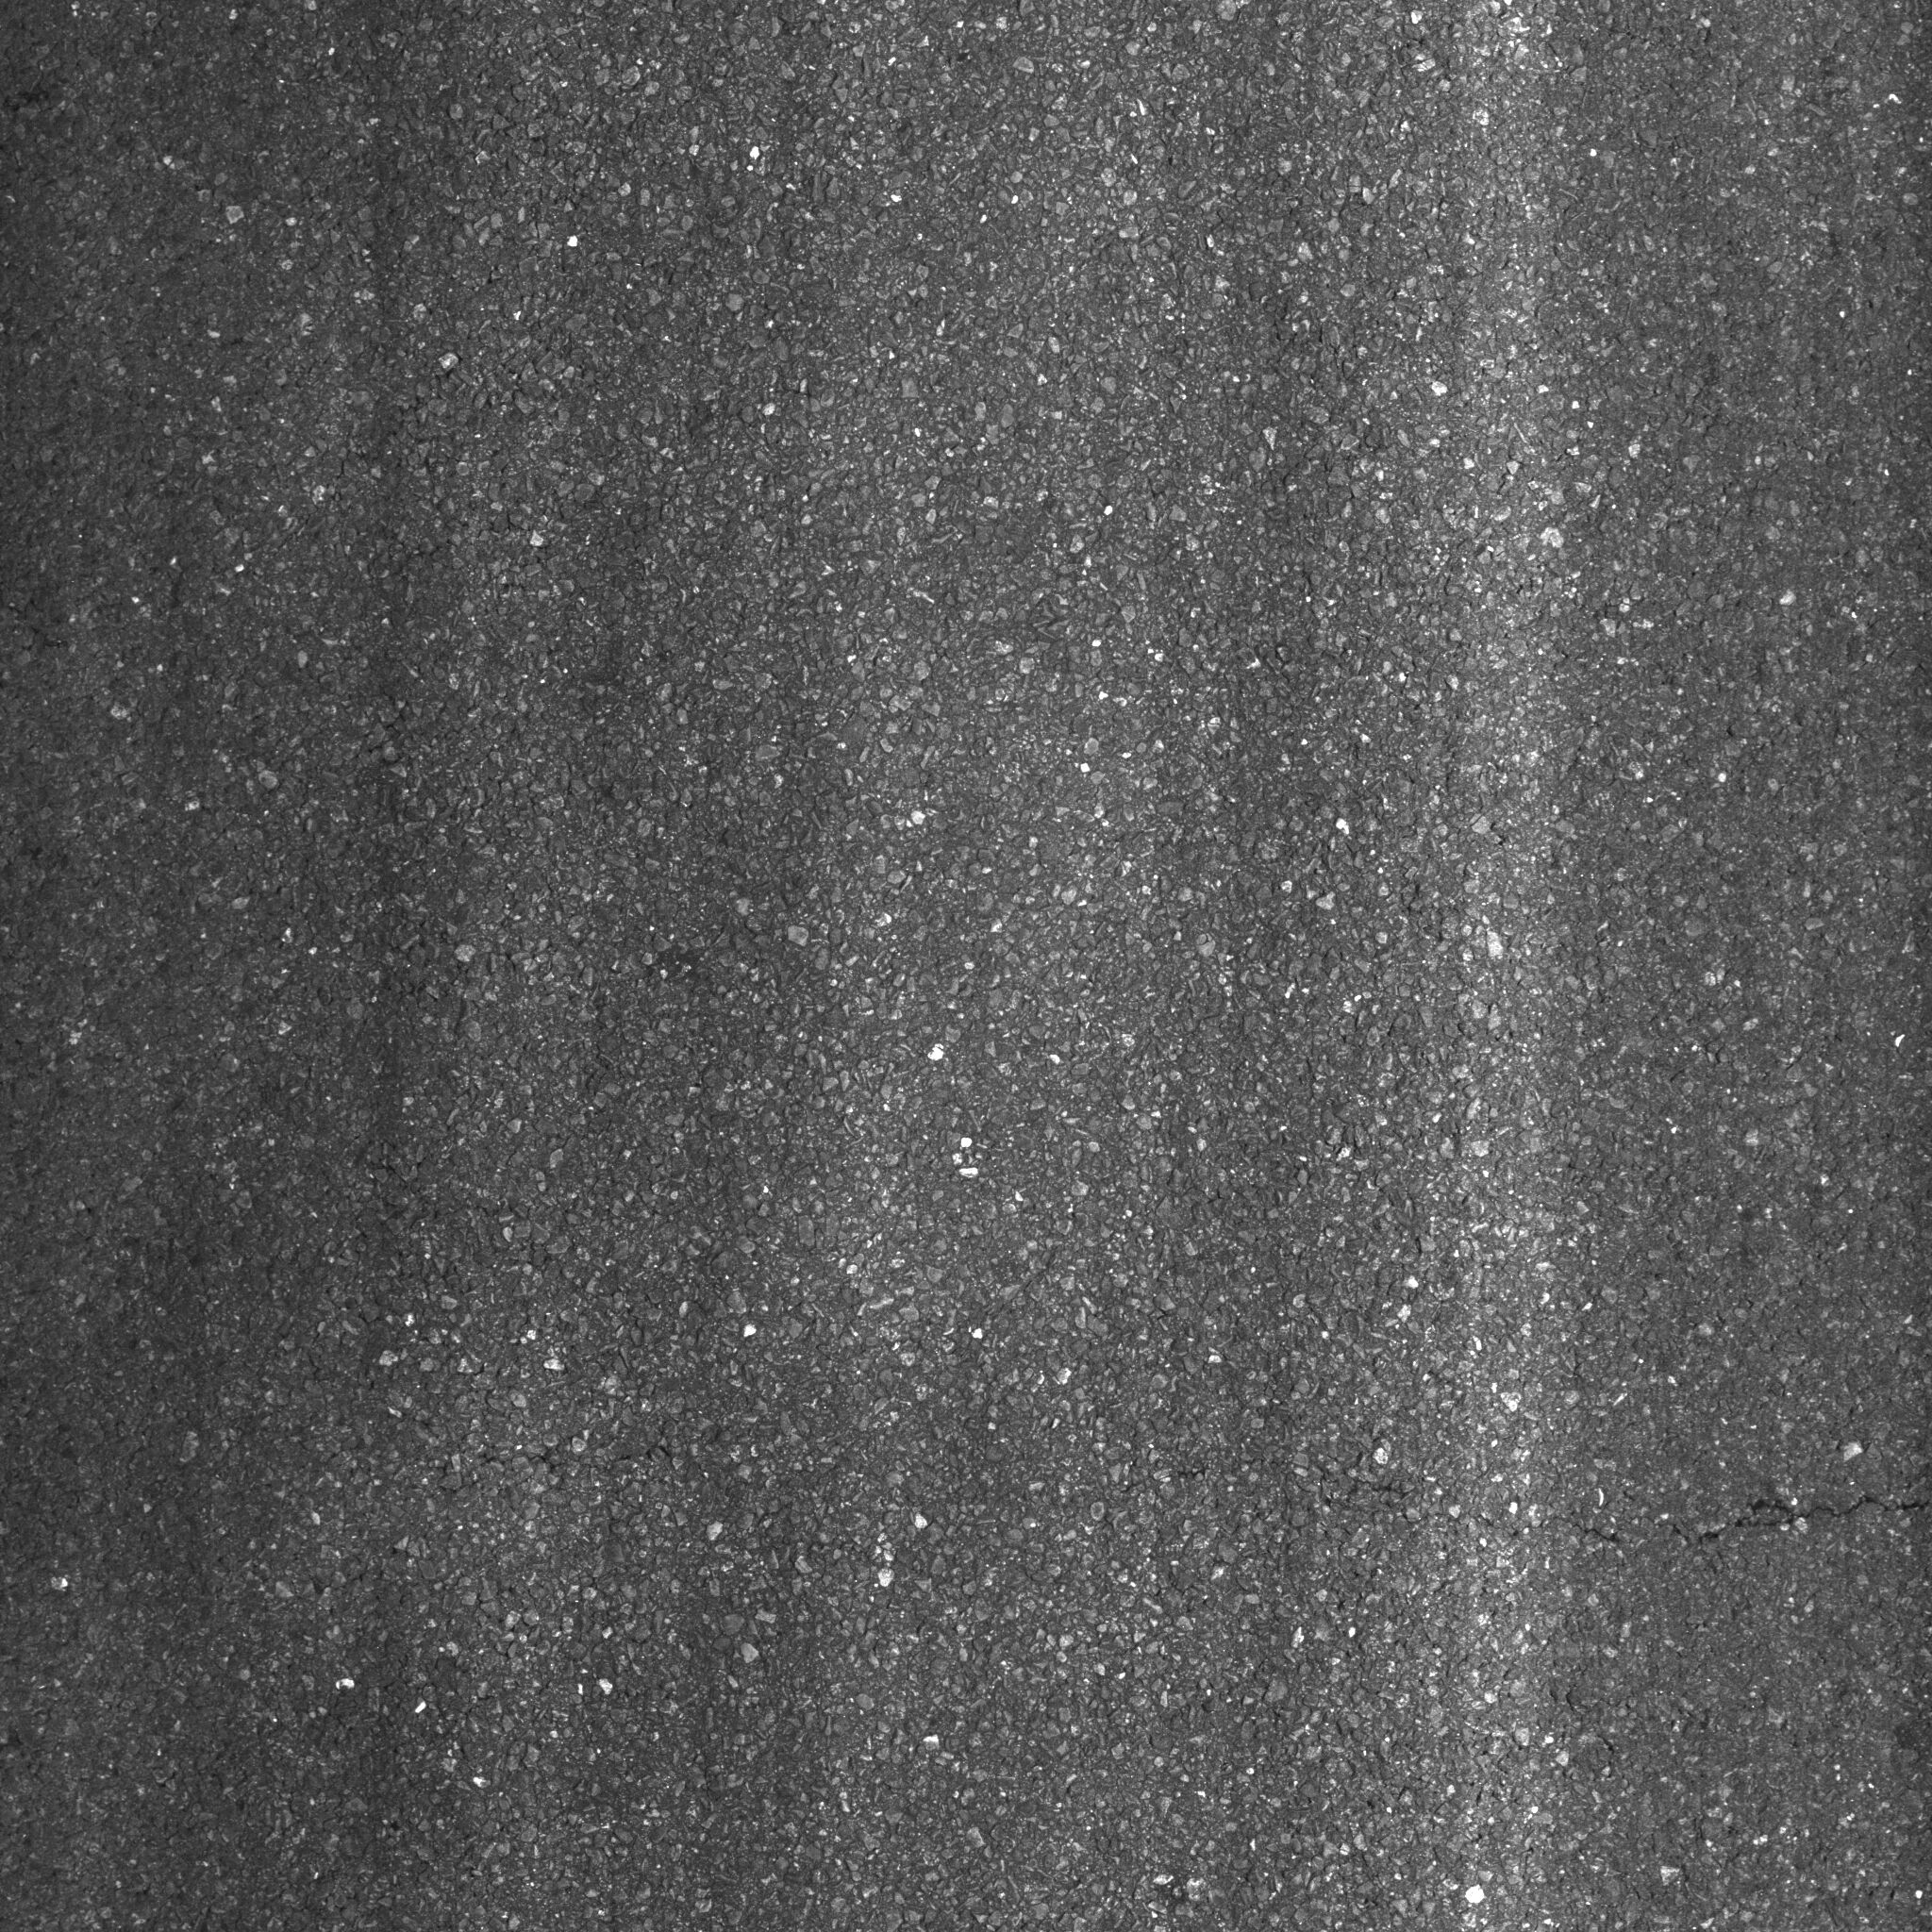transeverse: (1368, 1460, 1927, 1569)
